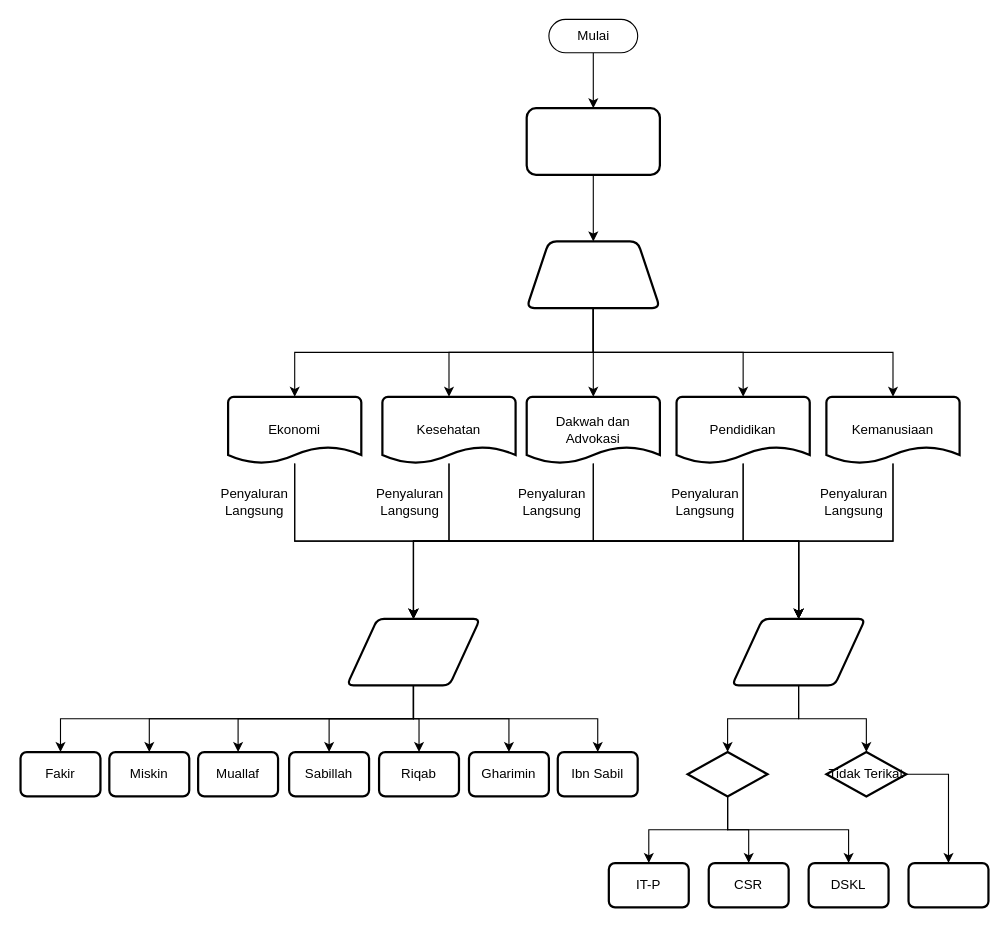
Some shapes in this 1008 by 928 pixel diagram are drawn without their labels. The centre of each missing label's shape, as x and y in pixels:
Infaq: the point at 798,651
ITT: the point at 948,884
KAS: the point at 592,274
Terikat: the point at 727,773
Upz: the point at 592,141
Zakat: the point at 413,651
